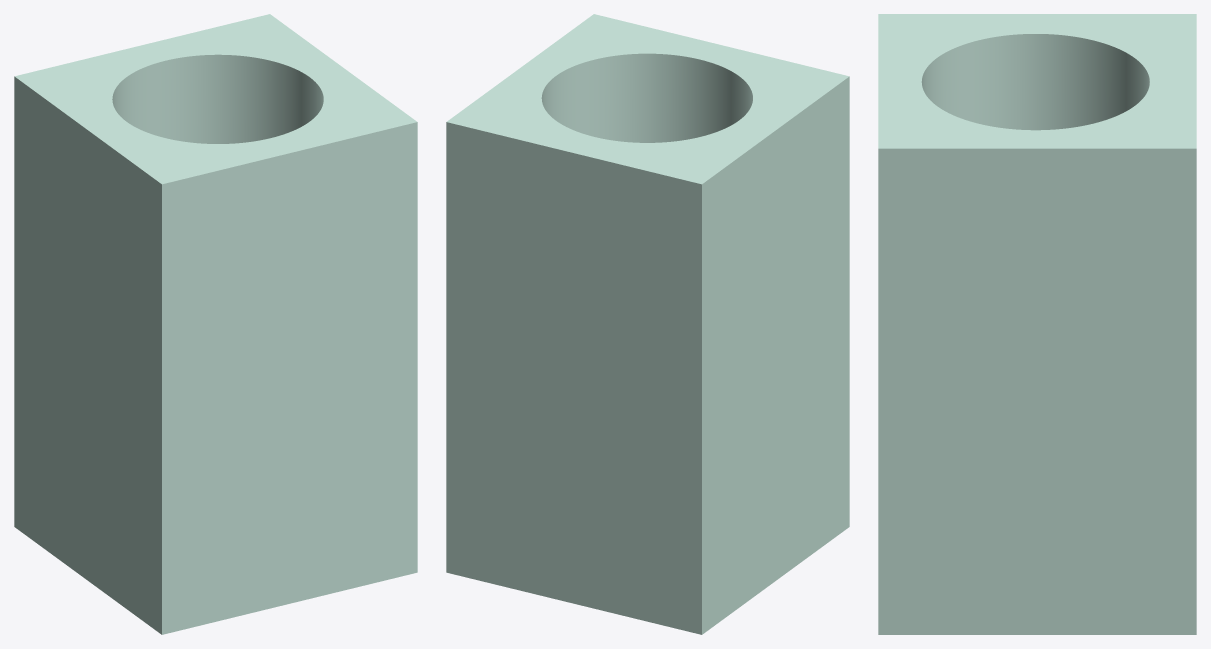
3 renders of one model, left to right at view 1: azimuth 30°, elevation 25°; view 2: azimuth 150°, elevation 25°; view 3: azimuth 270°, elevation 25°, orthographic. The views are drawn at different scales.
Parts seen in each view (by area): view 1: Renderer Node; view 2: Renderer Node; view 3: Renderer Node.
Boxes of the visible parts, box(x1,y1,x2,y2) form: Renderer Node: box(14, 14, 417, 634); Renderer Node: box(446, 14, 849, 634); Renderer Node: box(878, 14, 1196, 634).
Bounding box in the file's own units: 0.4453 × 0.75 × 0.4453.
